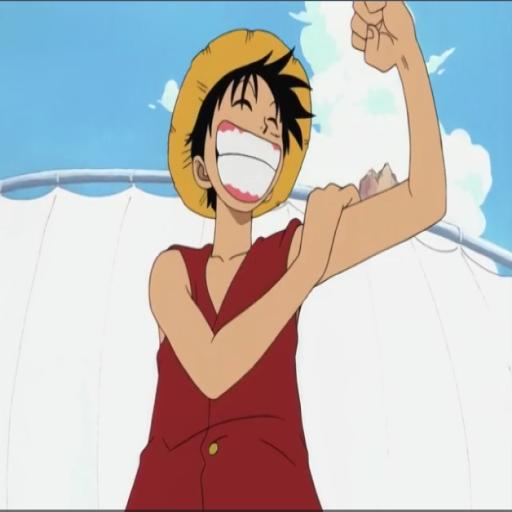Luffy: (138, 0, 460, 512)
